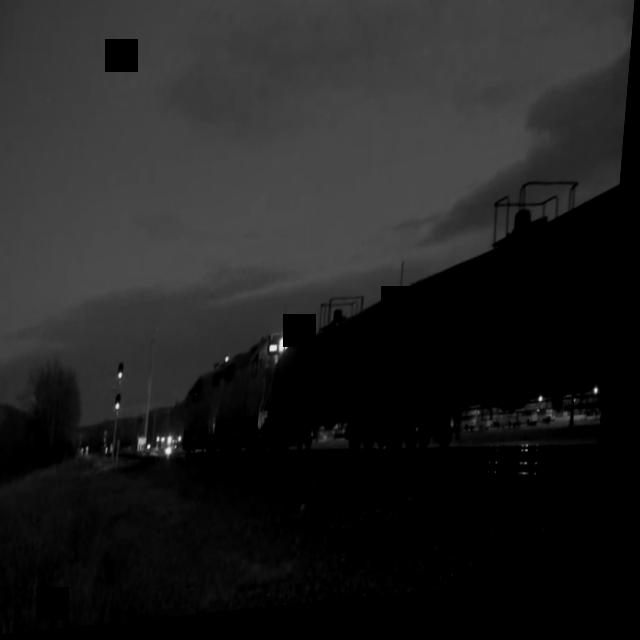locomotive: (214, 331, 300, 474)
tank: (375, 157, 626, 494), (269, 257, 410, 482)
